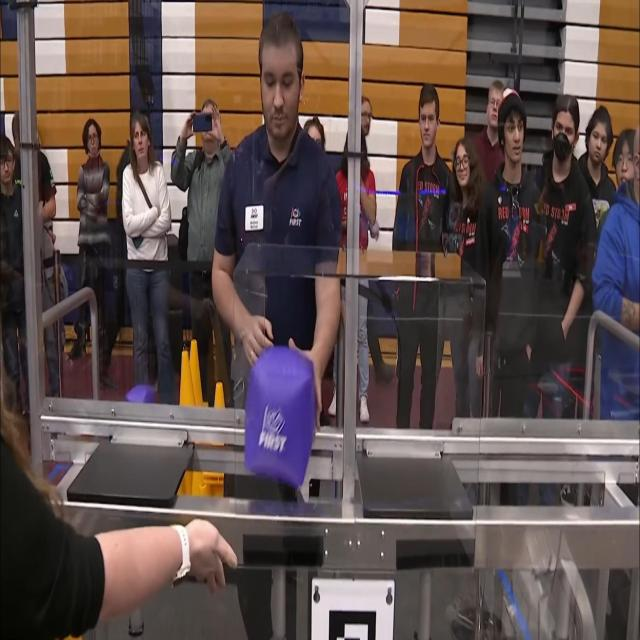frc_cone: (186, 338, 210, 410), (176, 352, 197, 406), (203, 472, 227, 496), (185, 472, 208, 496), (212, 379, 225, 408)
frc_cube: (244, 346, 316, 490), (125, 384, 156, 403)
